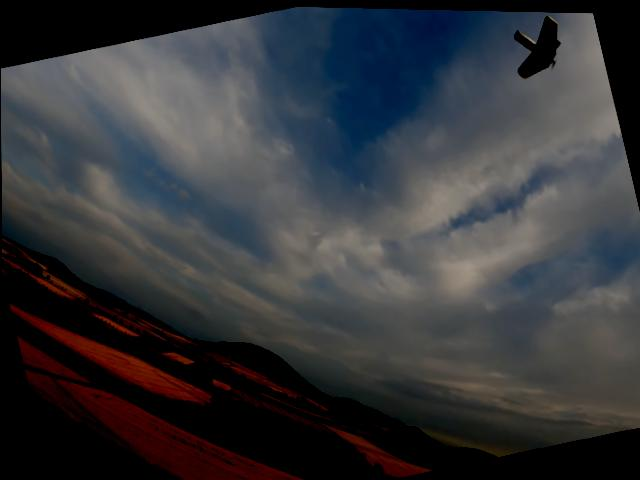plane: (507, 11, 570, 79)
